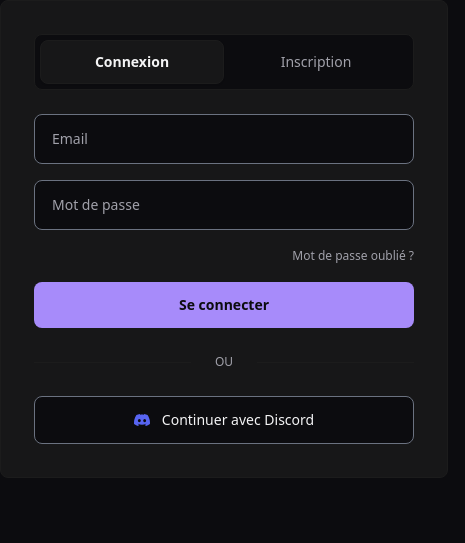
Test: AuthPanel › mot de passe oublié (ANO-029) › réclame l'adresse avant tout appel réseau si le champ est vide
Step 1. Click the button with id "login-forgot" → (353, 256), box [292, 246, 414, 266]
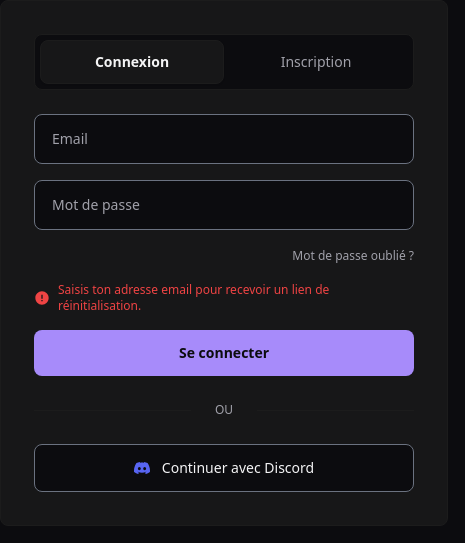
expect the message "Saisis ton adresse email pour recevoir un lien de réinitialisation." is shown: met, box [34, 281, 329, 314]
